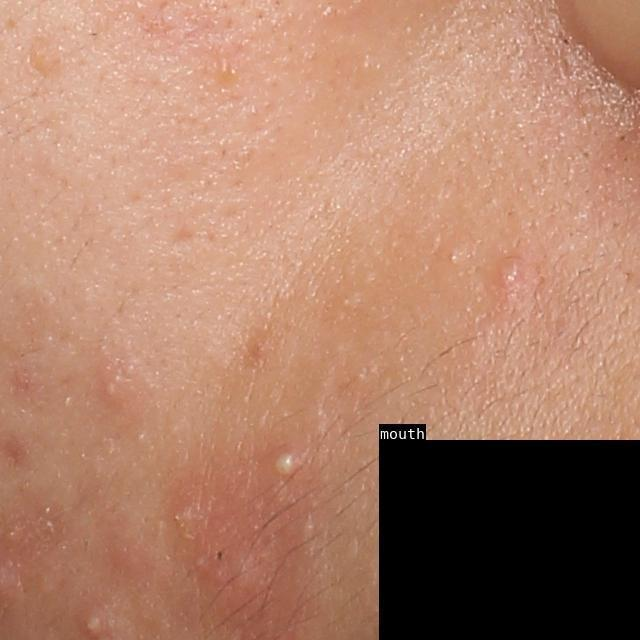atrophic_scar: (165, 224, 194, 256)
comedo: (26, 36, 66, 80), (447, 251, 460, 267)
pustule: (263, 441, 309, 483), (82, 611, 107, 640)
